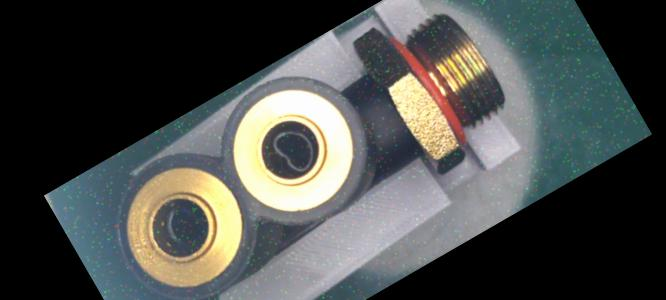off-centered: (261, 116, 326, 184), (155, 192, 214, 254)
